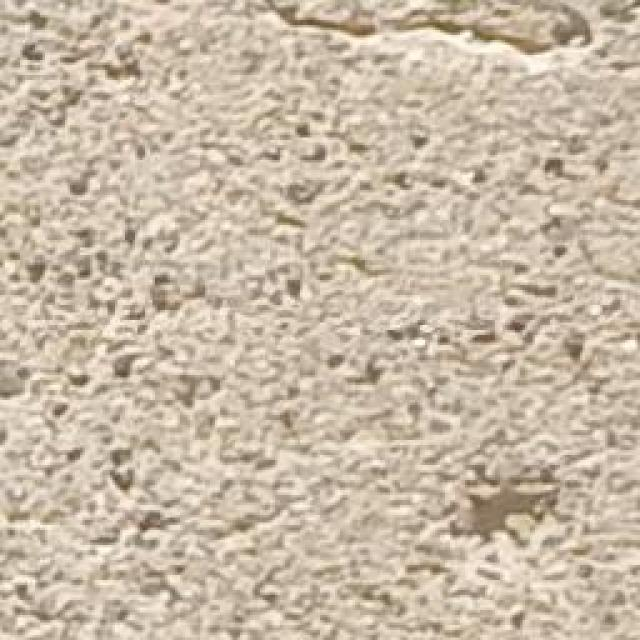concrete-crack: (265, 5, 596, 63)
